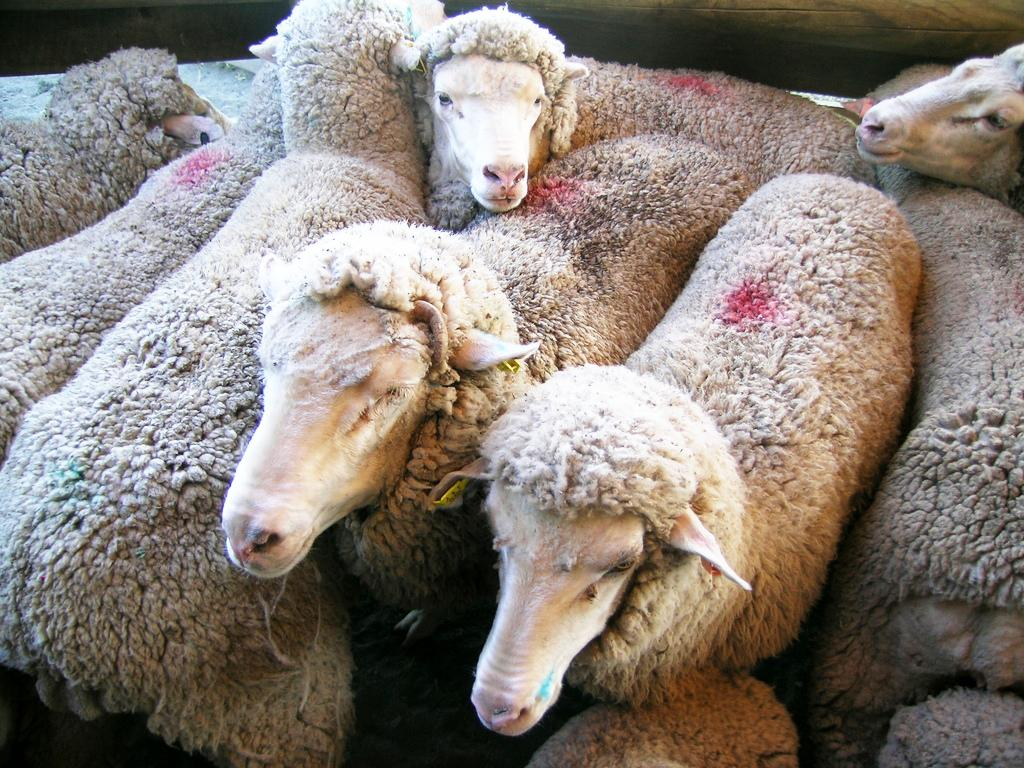Sheep: (0, 0, 476, 768), (464, 176, 923, 741), (217, 218, 721, 650), (4, 12, 390, 502), (782, 52, 1024, 756), (385, 8, 871, 214), (0, 39, 244, 271), (845, 51, 1024, 199)
